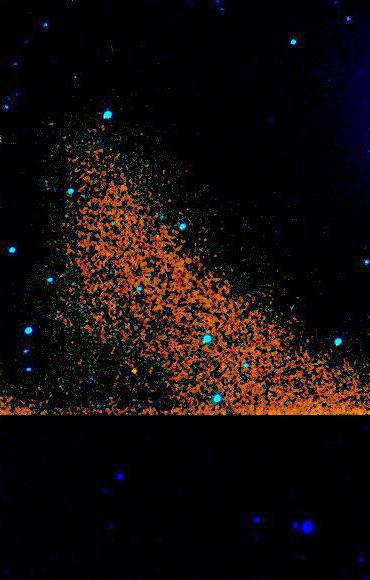star: (116, 357, 146, 387)
